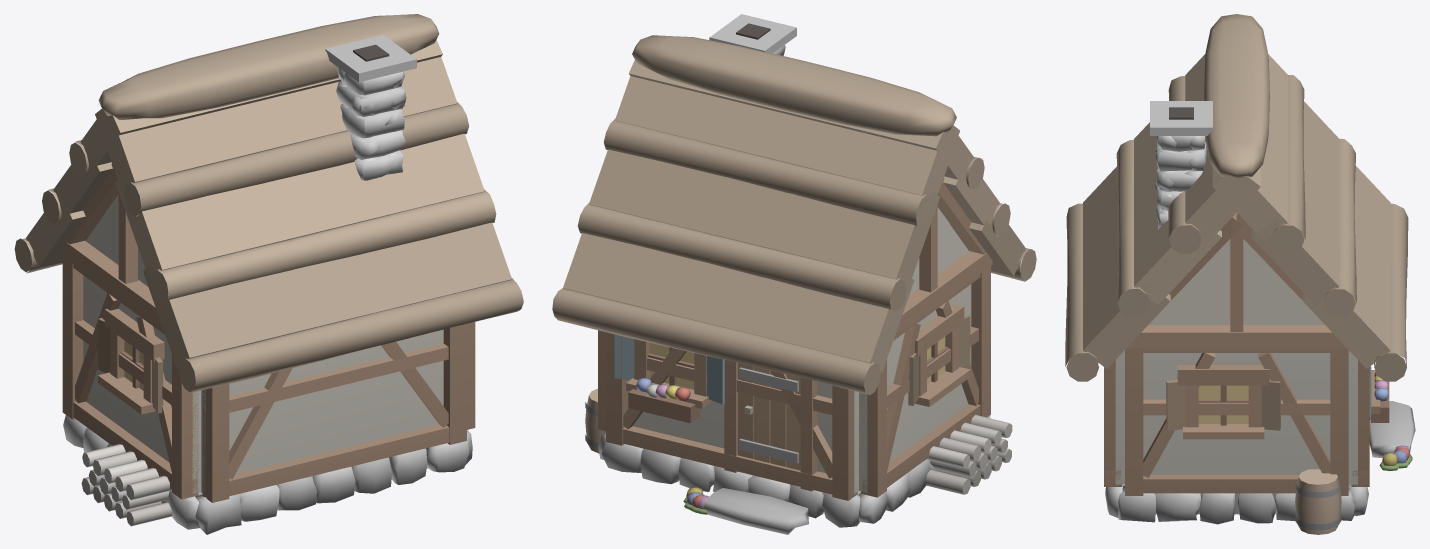
The model's file is hw_daub_house.glb.
3 views of the same model, side by side, from view 1: azimuth 30°, elevation 25°; view 2: azimuth 150°, elevation 25°; view 3: azimuth 270°, elevation 25° (orthographic). The views are drawn at different scales.
Visible parts, largest first — view 1: Building; view 2: Building; view 3: Building.
Boxes of the visible parts, x1,y1,x2,y2 form: Building: (14,14,523,534); Building: (552,14,1036,534); Building: (1065,14,1415,534).
Bounding box in the file's own units: 2.93 × 3.21 × 2.66.
